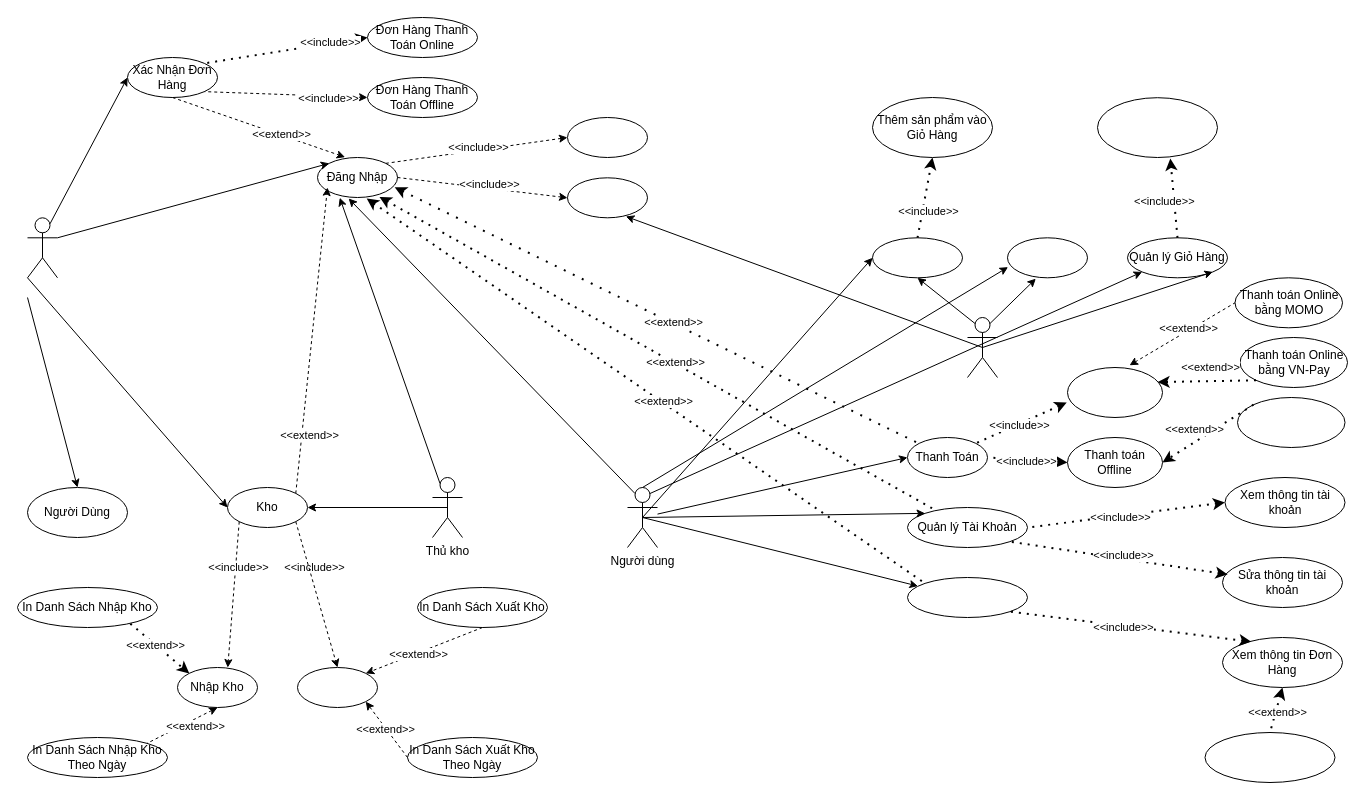
Some shapes in this 1365 by 800 pixel diagram are drawn without their labels. The shapes that lost their labels are listed below. From the top down, each one's centre as x and y in pixels, then its label:
At [607,137]: "Đăng Xuất".
At [1157,127]: "Xoá sản phẩm trong Giỏ Hàng".
At [607,197]: "Đăng Ký".
At [42,247]: "Admin".
At [917,257]: "Xem thông tin sản phẩm".
At [1047,257]: "Tìm Kiếm".
At [982,347]: "Khách".
At [1114,392]: "Thanh toán Online".
At [1290,422]: "Thanh toán bằng Tiền Mặt".
At [967,597]: "Quản lý Đơn Hàng".
At [337,687]: "Xuất Kho".
At [1269,757]: "Xem thông tin chi tiết Đơn Hàng".
